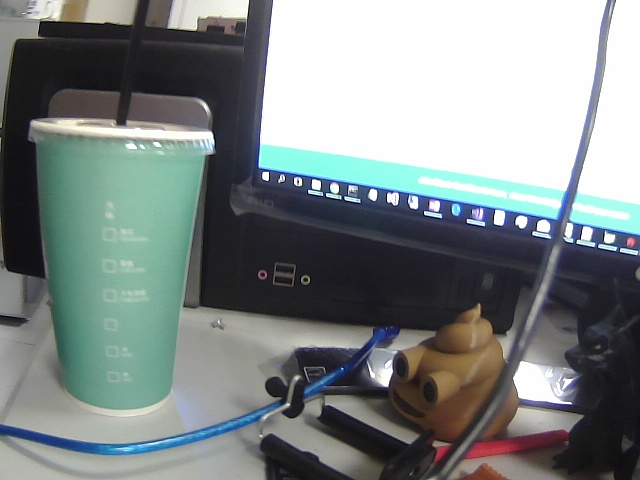beverage: (26, 1, 225, 425)
